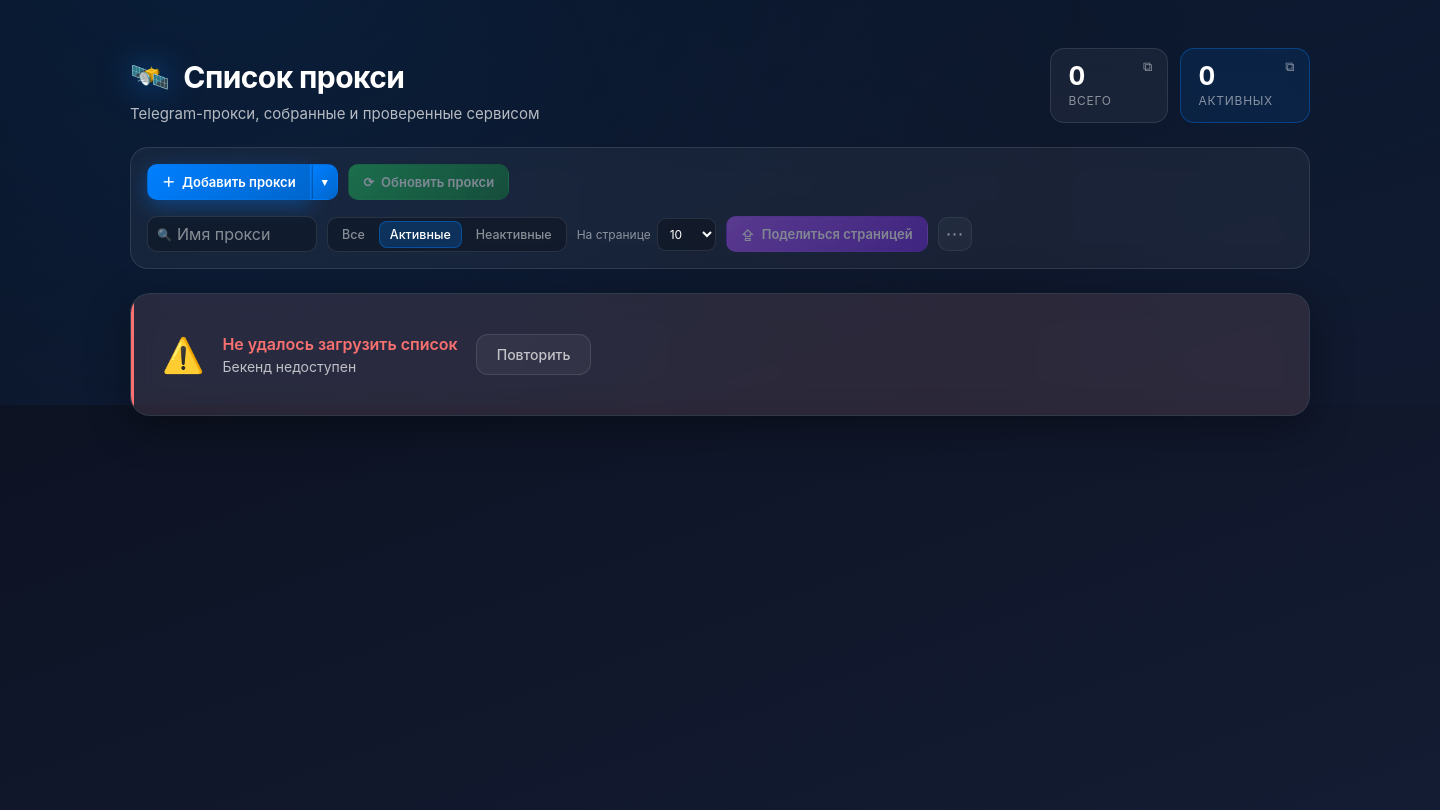
загрузка списка › показывает ошибку загрузки и повторяет запрос по кнопке
Check: the text "Не удалось загрузить список" is shown, box top-left (222, 334), bottom-right (458, 354)
Check: the text "Бекенд недоступен" is shown, box top-left (222, 358), bottom-right (356, 375)
Click the button "Повторить" at (534, 354), box top-left (476, 334), bottom-right (591, 375)
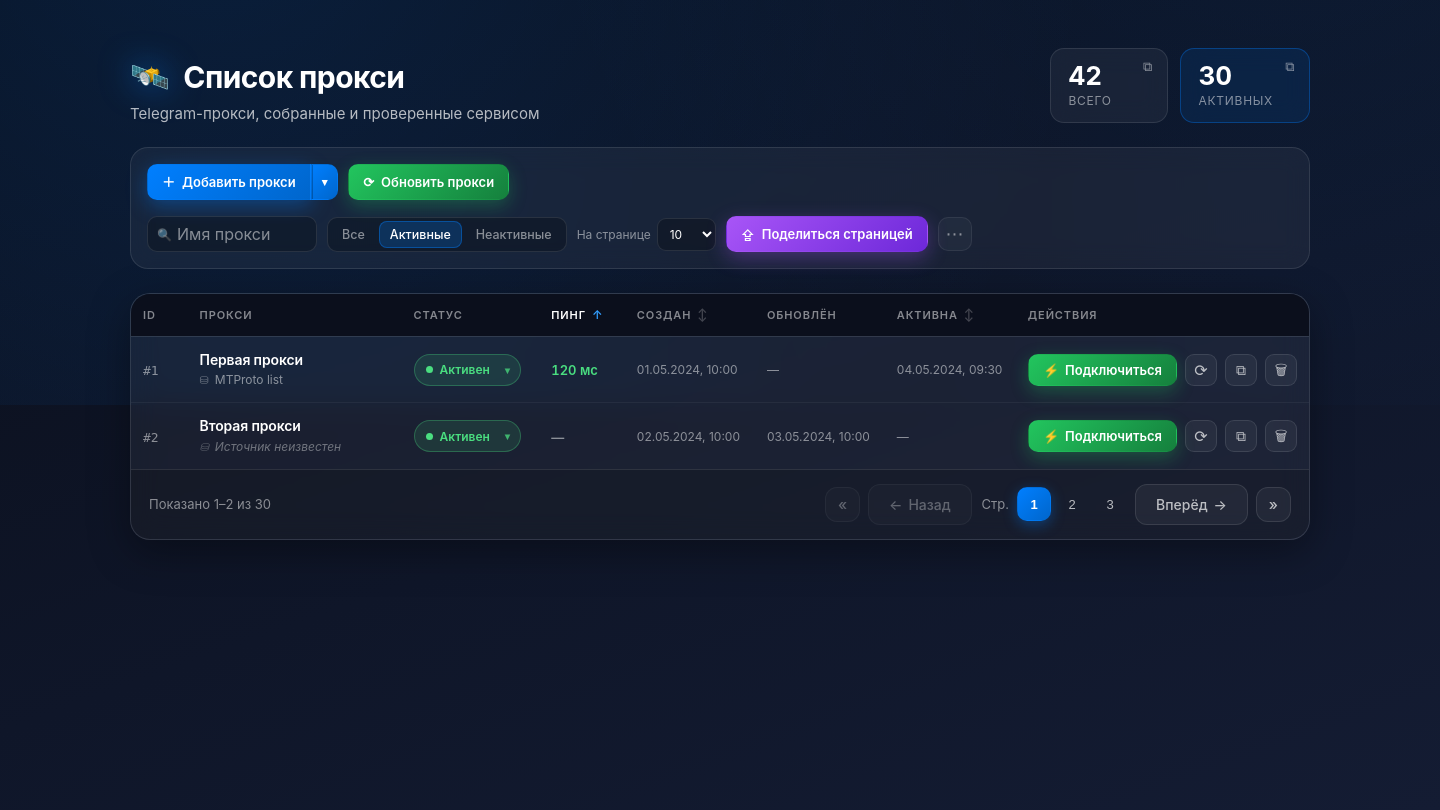
Check: the text "Первая прокси" is shown, box top-left (200, 351), bottom-right (303, 368)
